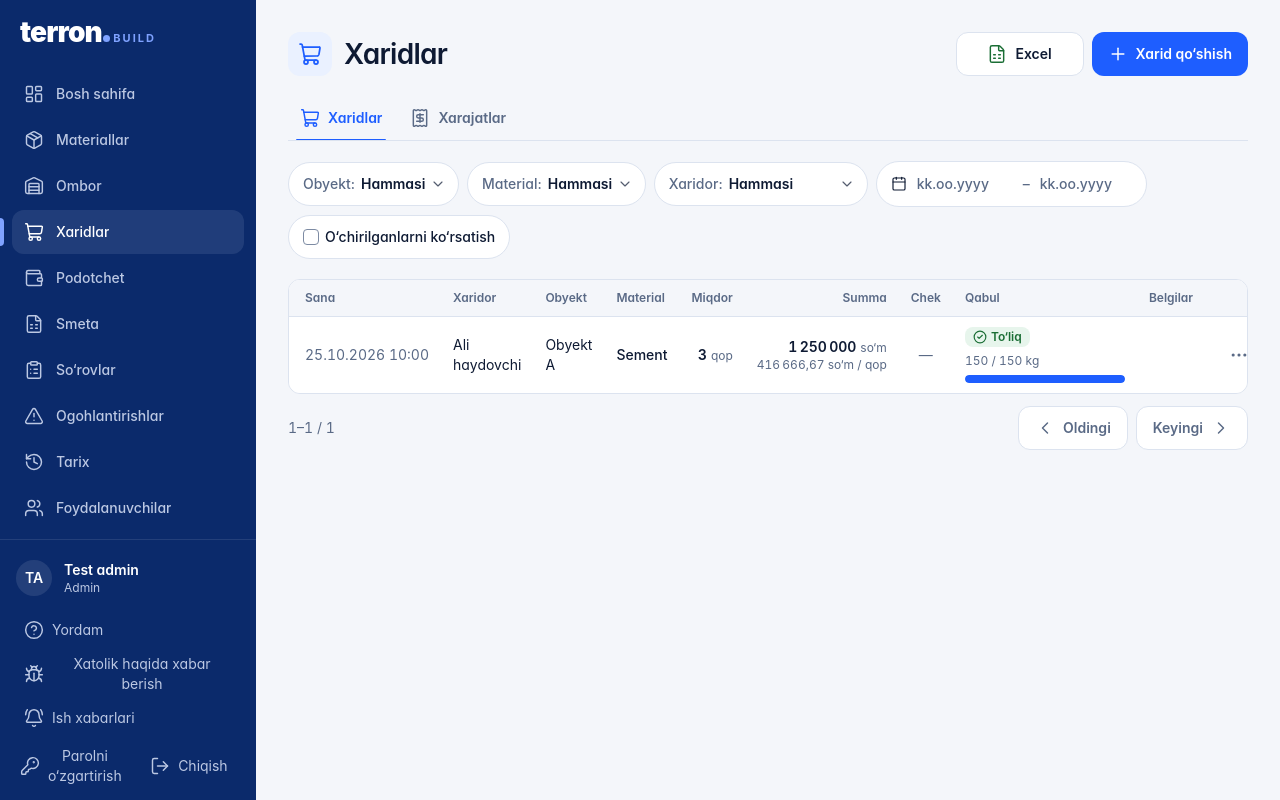
admin tuzatishi (correct_entry, istalgan vaqtda) › kirimga bog‘langan xarid — "Tuzatish" yo‘q; direktor — yo‘q
Click the button named "Amallar" at (1239,355), box [1217, 333, 1261, 377]
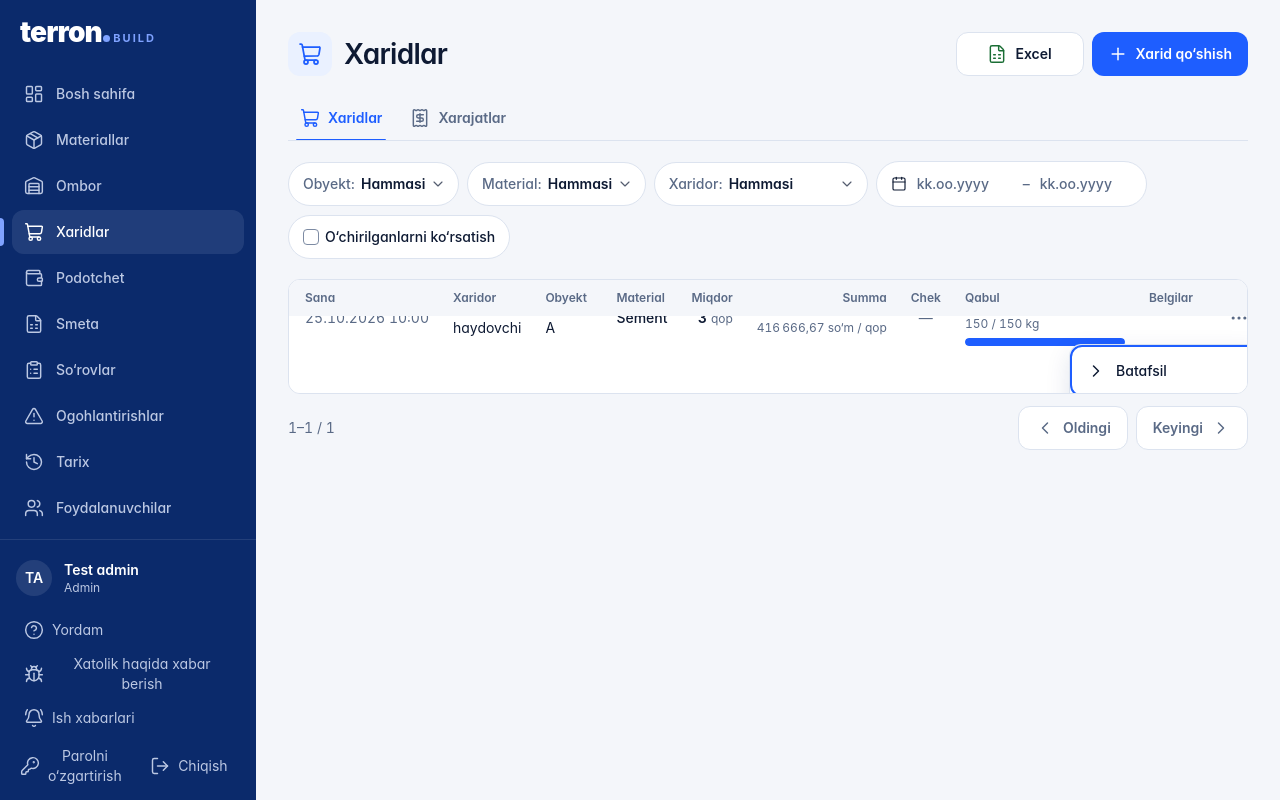
Click the menu item "Batafsil" at (1165,371), box [1074, 349, 1256, 393]
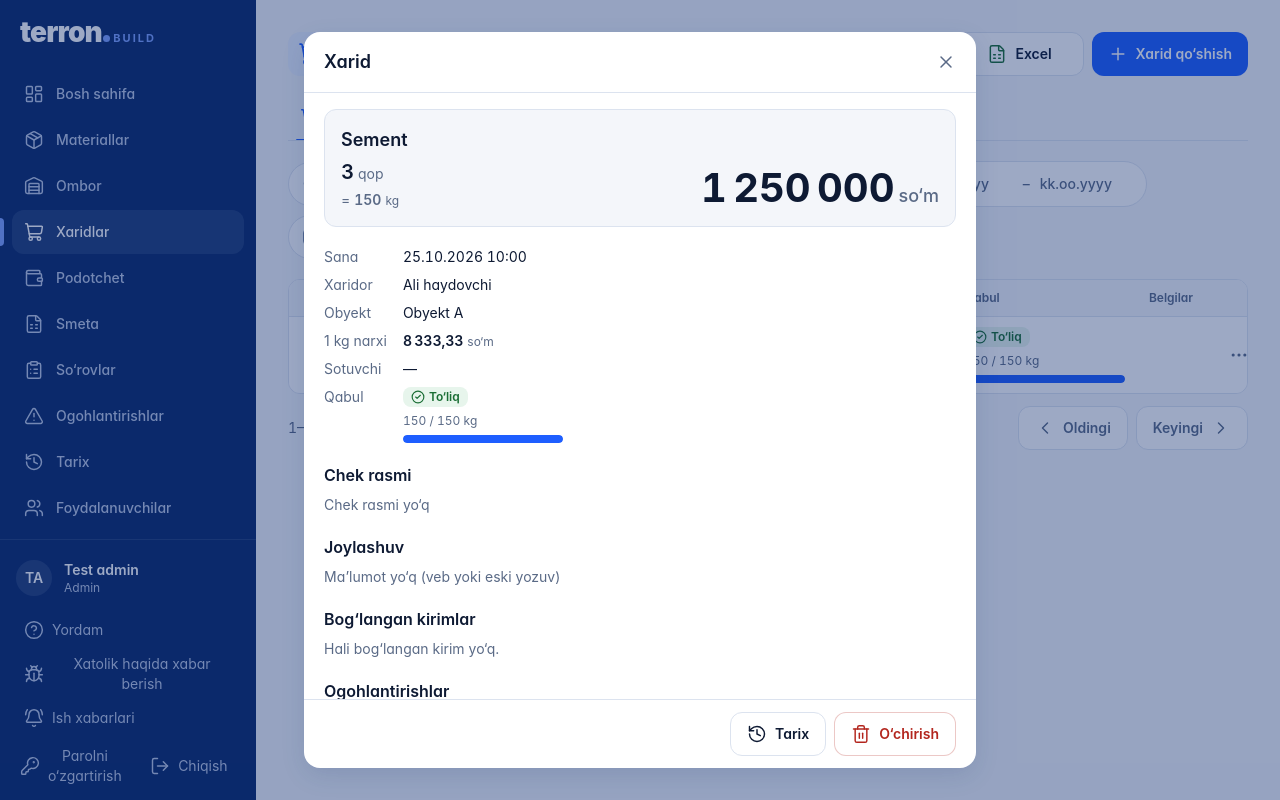
Expected: the text "Hali bog‘langan kirim yo‘q." is shown, [324, 640, 499, 657]
